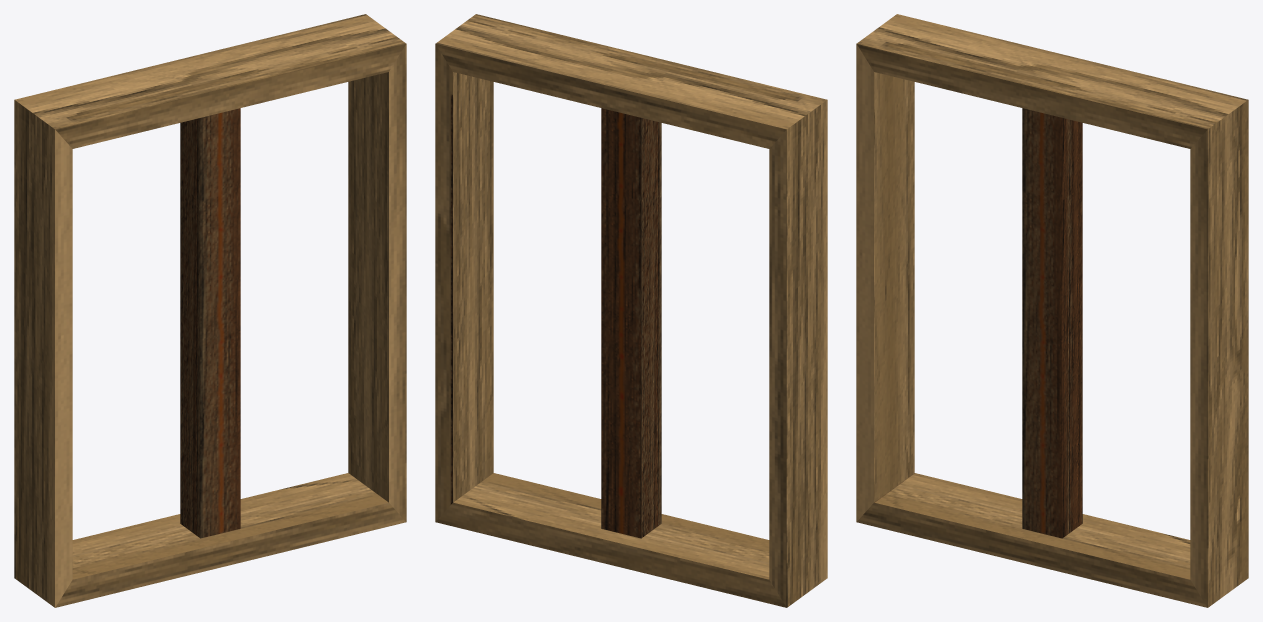
The model's file is WindowSimpleFrame2.fbx.
3 views of the same model, side by side, from view 1: azimuth 30°, elevation 25°; view 2: azimuth 150°, elevation 25°; view 3: azimuth 330°, elevation 25° (orthographic).
Visible parts, largest first — view 1: Window_2m75; view 2: Window_2m75; view 3: Window_2m75.
Boxes of the visible parts, x1,y1,x2,y2 form: Window_2m75: [14, 14, 406, 607]; Window_2m75: [435, 14, 827, 607]; Window_2m75: [856, 14, 1248, 607].
Size of the model in its own units: 99.96 by 130 by 20.
Materials: 1 (1 with a texture image).
